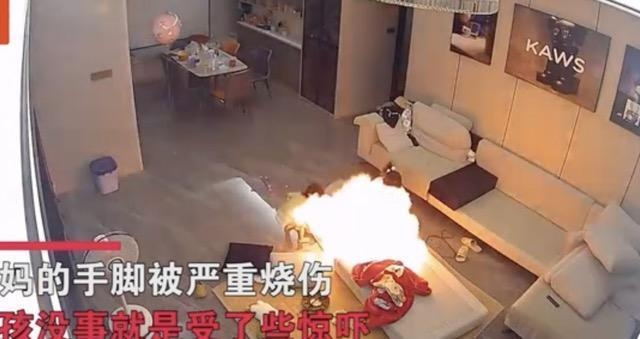fire: (304, 164, 427, 280)
